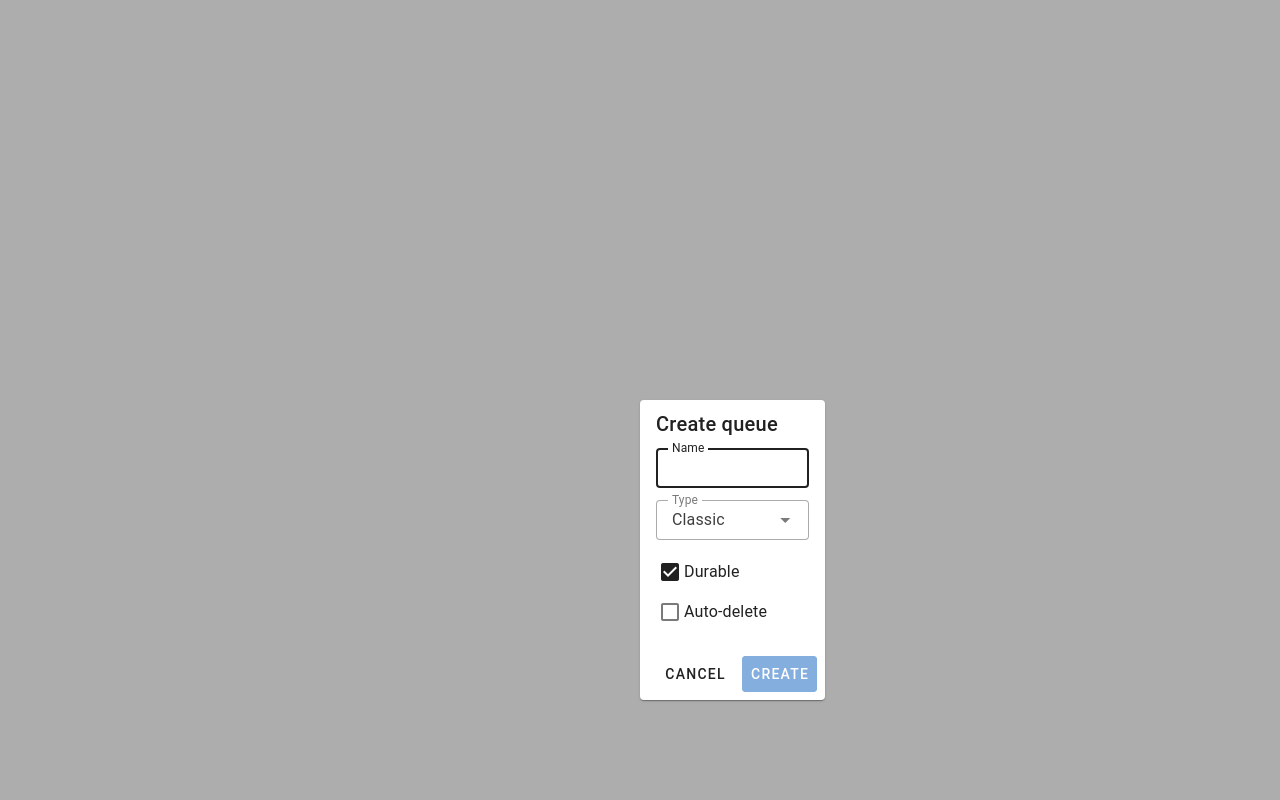
Scenario: CreateQueueDialog › shows an error and stays open when createQueue rejects
Type "orders" into the field labelled "Name". click: (733, 468)
box: [656, 448, 809, 488]
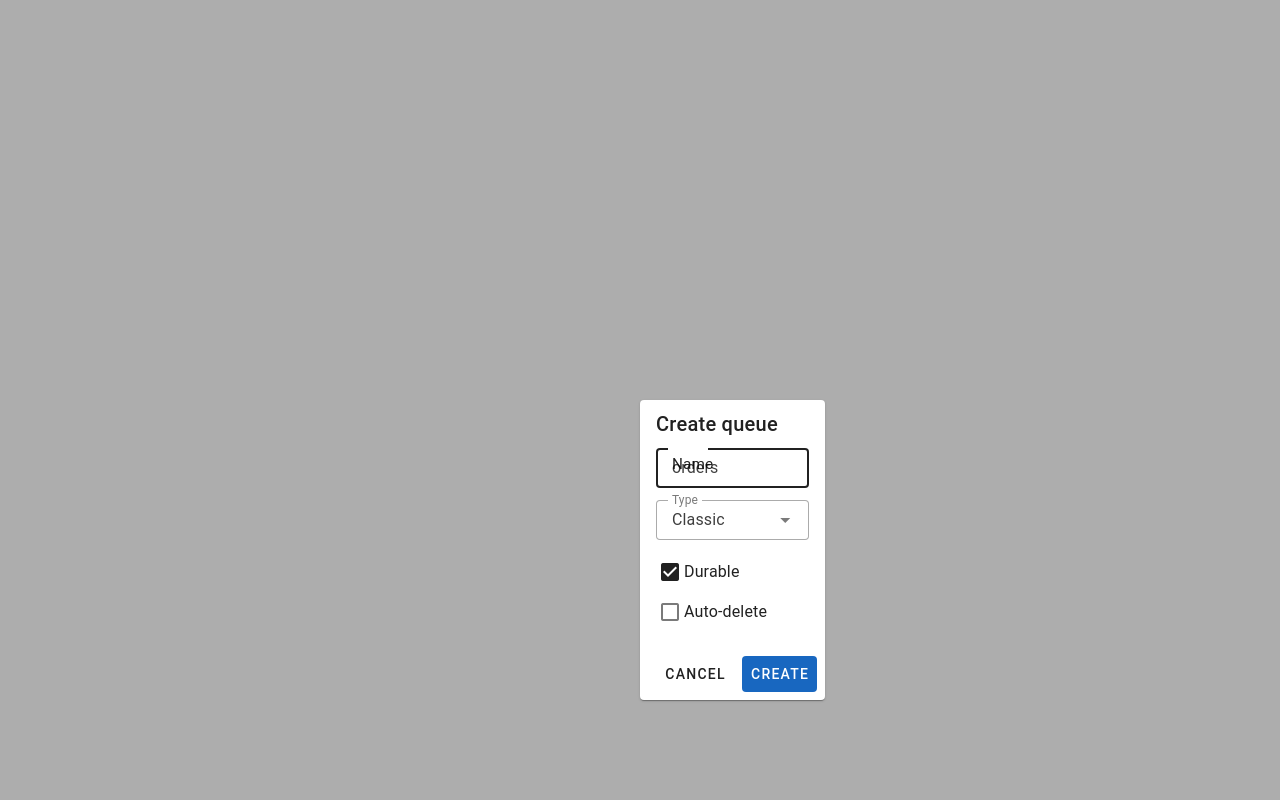
Click the button with test id "create-queue-submit". click: (780, 674)
box: [742, 656, 817, 692]
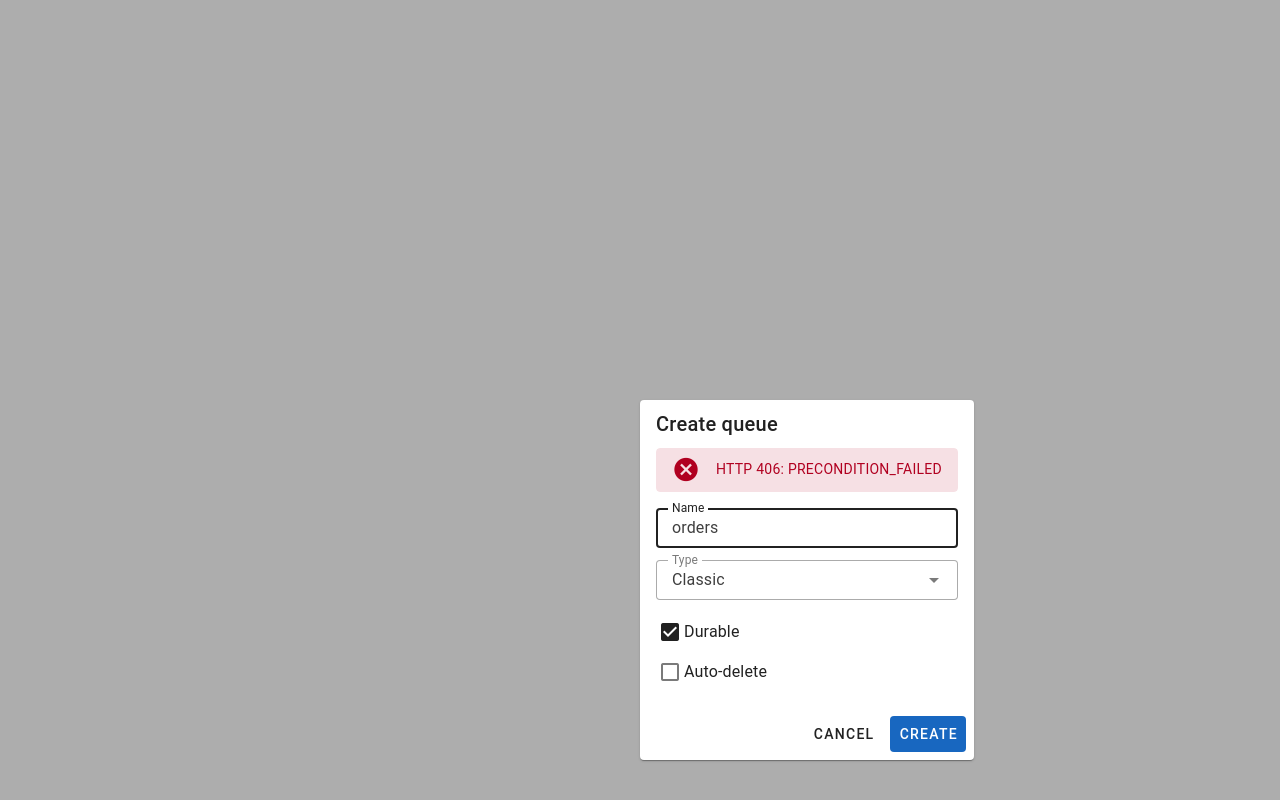
Now the message with test id "create-queue-error" shows "HTTP 406", box [716, 461, 942, 477]
